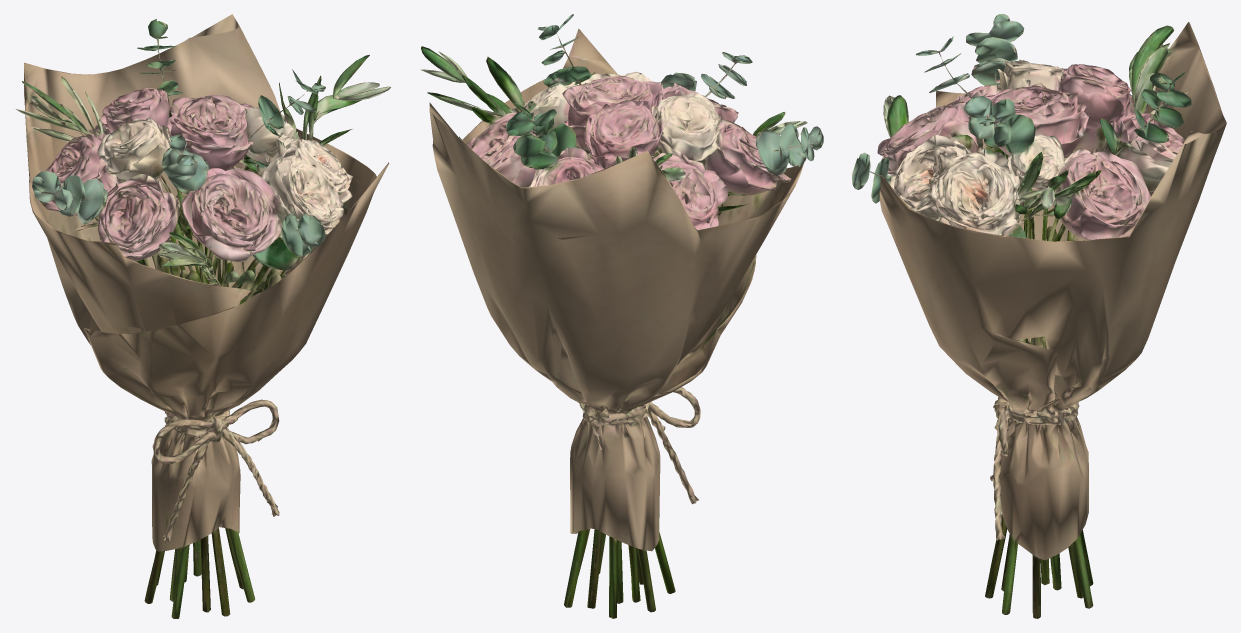
Rendered from bouquet-web.glb.
3 views of the same model, side by side, from view 1: azimuth 30°, elevation 25°; view 2: azimuth 150°, elevation 25°; view 3: azimuth 270°, elevation 25° (orthographic). The views are drawn at different scales.
Visible parts, largest first — view 1: Mesh1.0; view 2: Mesh1.0; view 3: Mesh1.0.
Part boxes in pixels (box(x1,y1,x2,y2)): Mesh1.0: box(16, 14, 390, 618); Mesh1.0: box(420, 14, 823, 618); Mesh1.0: box(852, 14, 1226, 618).
Bounding box in the file's own units: 1.39 × 1.9 × 1.2.
Materials: 1 (1 with a texture image).
